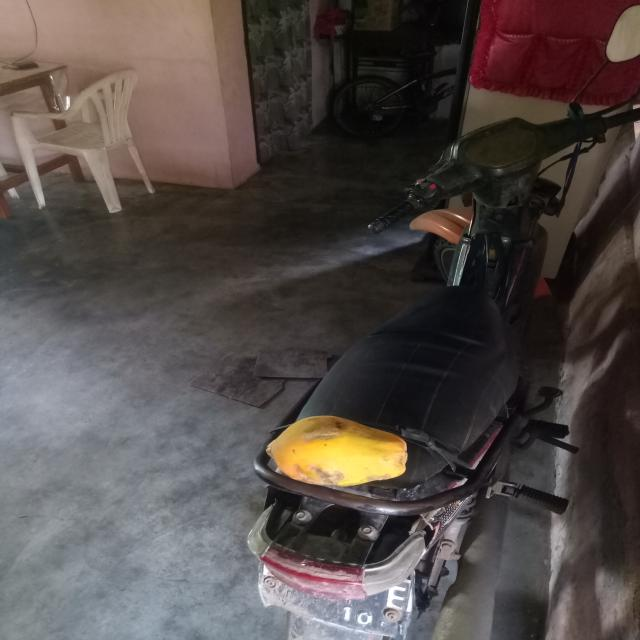Pepaya rippen: (260, 416, 410, 494)
